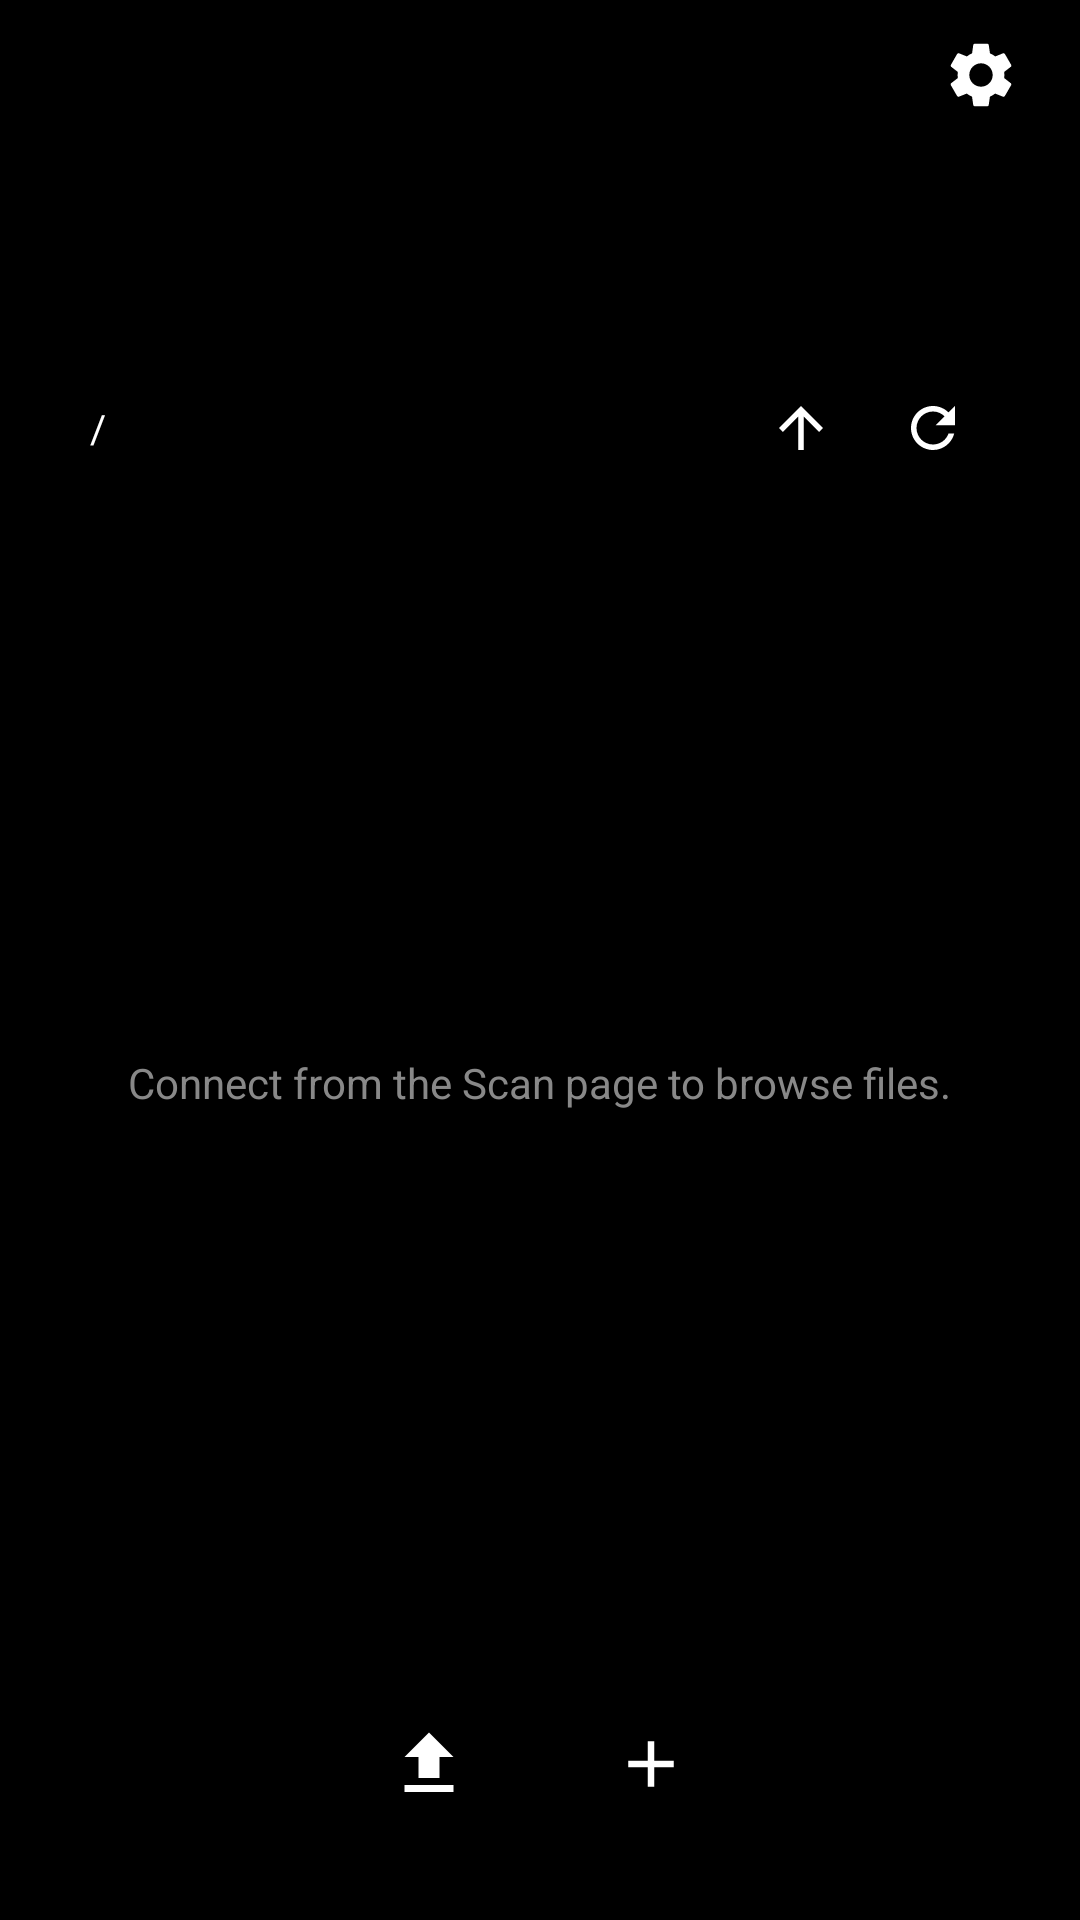

Screen size 1080×1920. Icon name, then its box in pixels as (x1, y1, x2, y2):
Create: (628, 1741, 674, 1787)
Refresh: (911, 406, 955, 450)
Settings: (950, 43, 1012, 107)
Up: (779, 406, 823, 450)
Upload: (404, 1732, 454, 1792)
